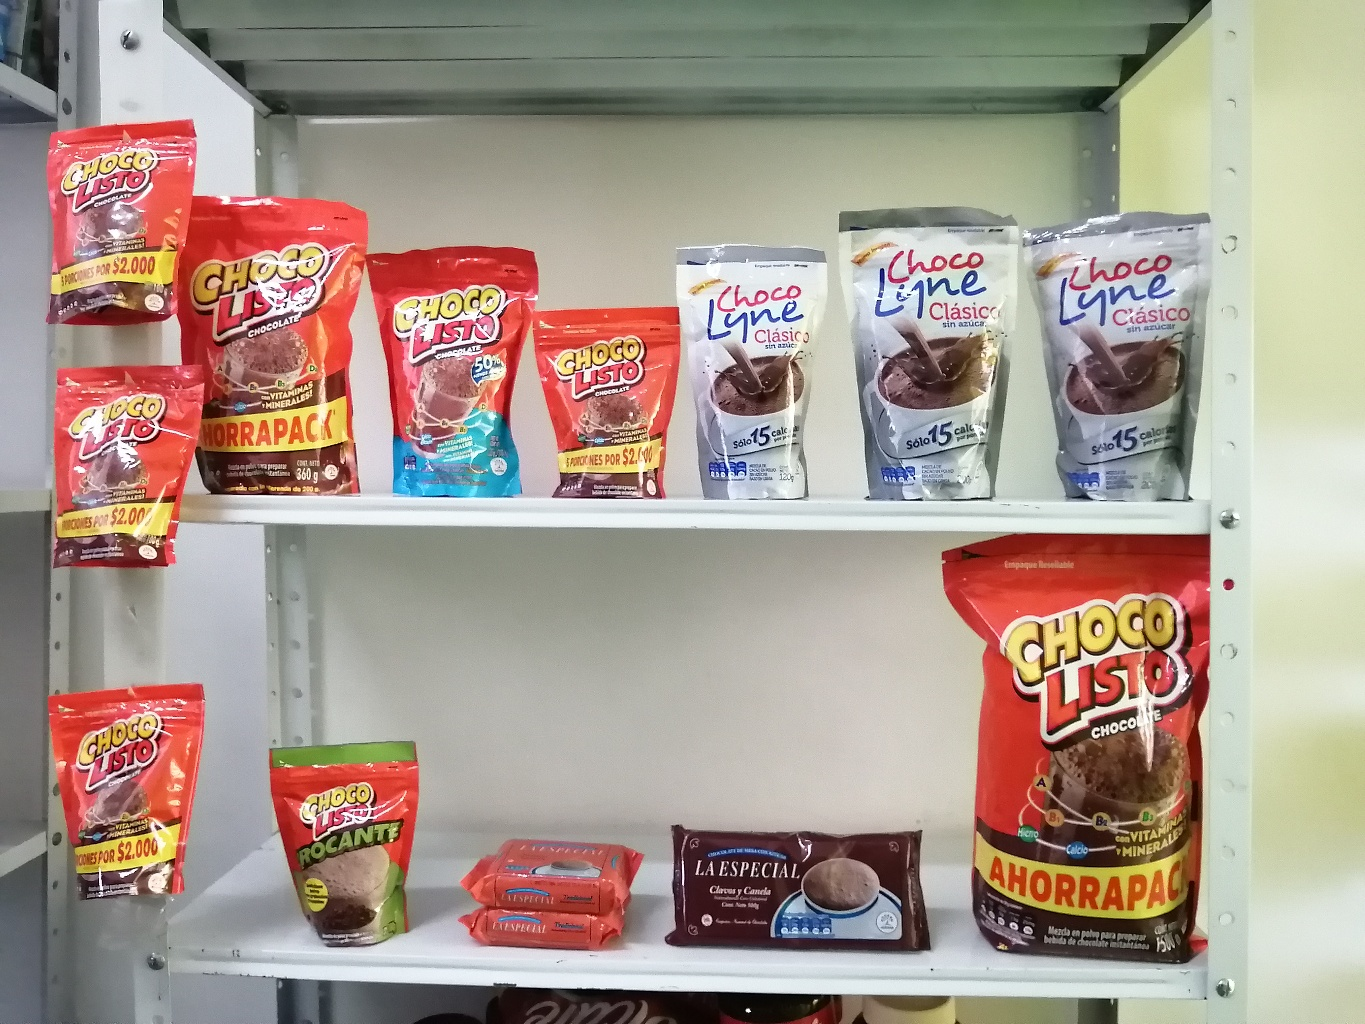COL0170102DYP10000: (265, 733, 438, 964)
COL0170103DYP1,500: (954, 537, 1221, 958)
COL0170103DYP36000: (183, 183, 371, 503)
COL0170104DYP20000: (365, 244, 575, 507)
